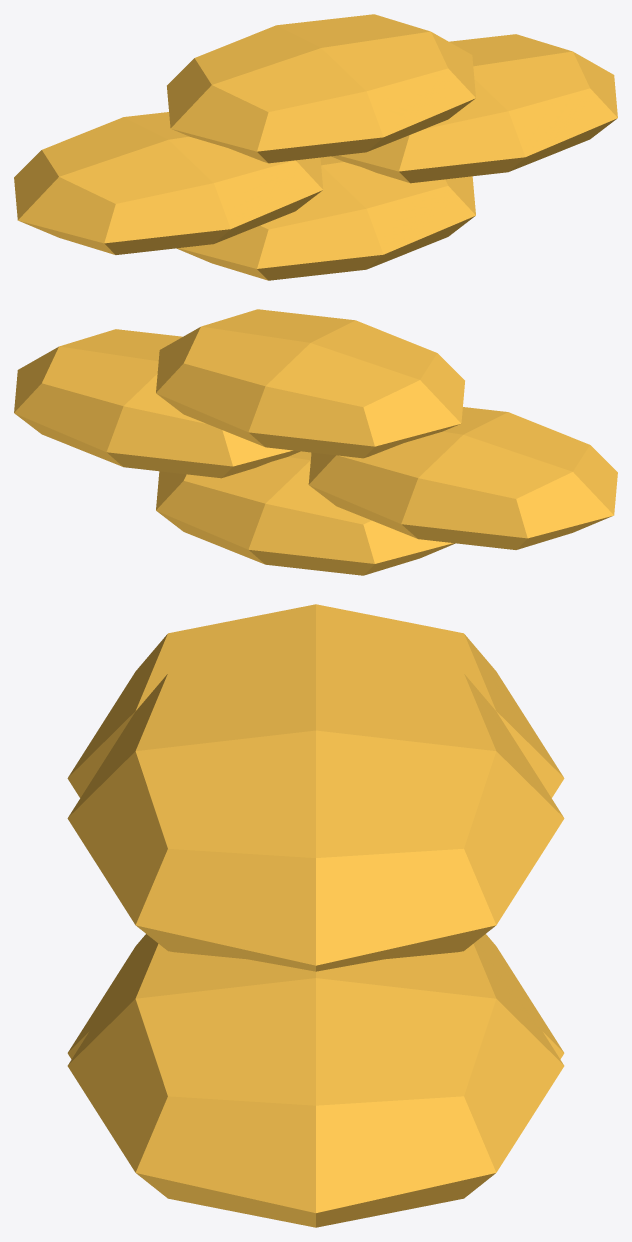
File: SandsSack.glb
3 renders of one model, top to bottom at view 1: azimuth 30°, elevation 25°; view 2: azimuth 150°, elevation 25°; view 3: azimuth 270°, elevation 25°, orthographic. The views are drawn at different scales.
Parts seen in each view (by area): view 1: SandsSack; view 2: SandsSack; view 3: SandsSack.
Part boxes in pixels (box(x1,y1,x2,y2)): SandsSack: box(14, 14, 617, 280); SandsSack: box(14, 309, 617, 575); SandsSack: box(67, 604, 564, 1227).
Size of the model in its own units: 2.6 by 0.8302 by 0.9392.
